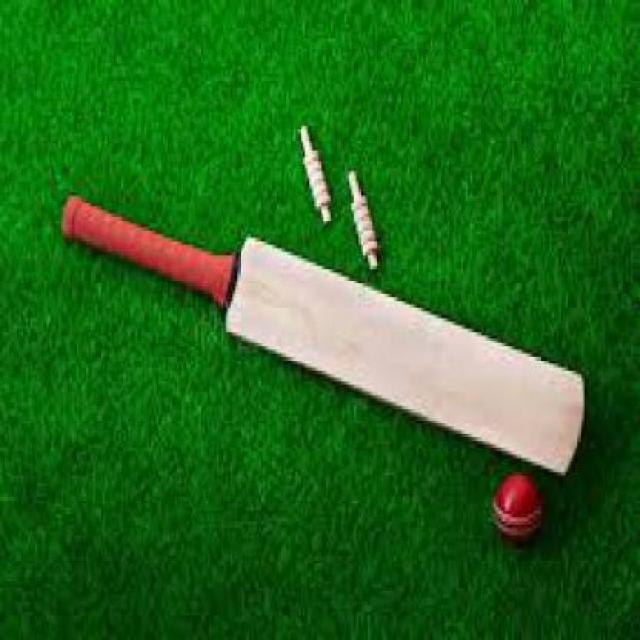ball: (469, 452, 567, 562)
